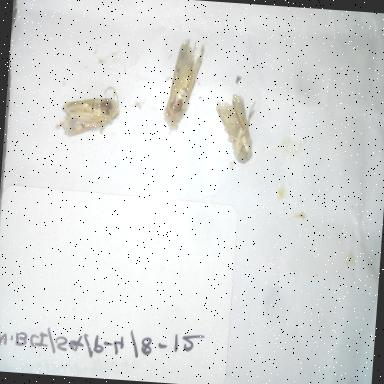abw: (156, 30, 210, 135), (48, 78, 126, 144), (210, 86, 260, 167)
